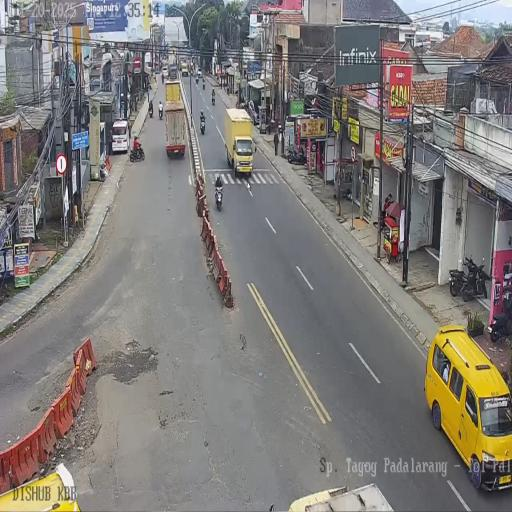3: (224, 106, 251, 175), (164, 80, 186, 158), (169, 63, 177, 80)
car: (422, 326, 509, 488), (110, 119, 130, 155), (246, 99, 259, 125), (162, 65, 169, 79), (182, 61, 188, 76), (196, 67, 202, 78)
truck: (461, 254, 488, 302), (488, 289, 512, 341), (287, 144, 306, 165), (130, 142, 145, 161), (215, 182, 223, 211), (200, 110, 206, 133), (148, 105, 154, 118), (158, 106, 163, 119), (211, 92, 215, 105), (202, 77, 205, 89)
